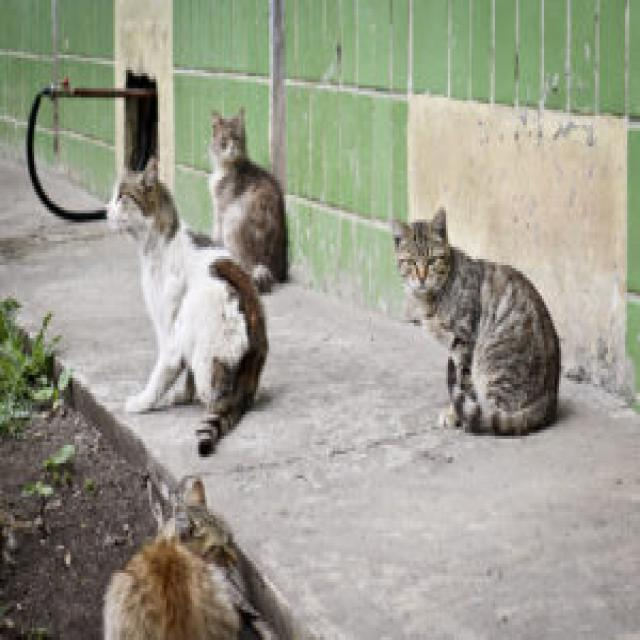cat: (109, 161, 268, 454), (396, 209, 560, 433), (104, 479, 276, 639), (214, 112, 286, 291)
